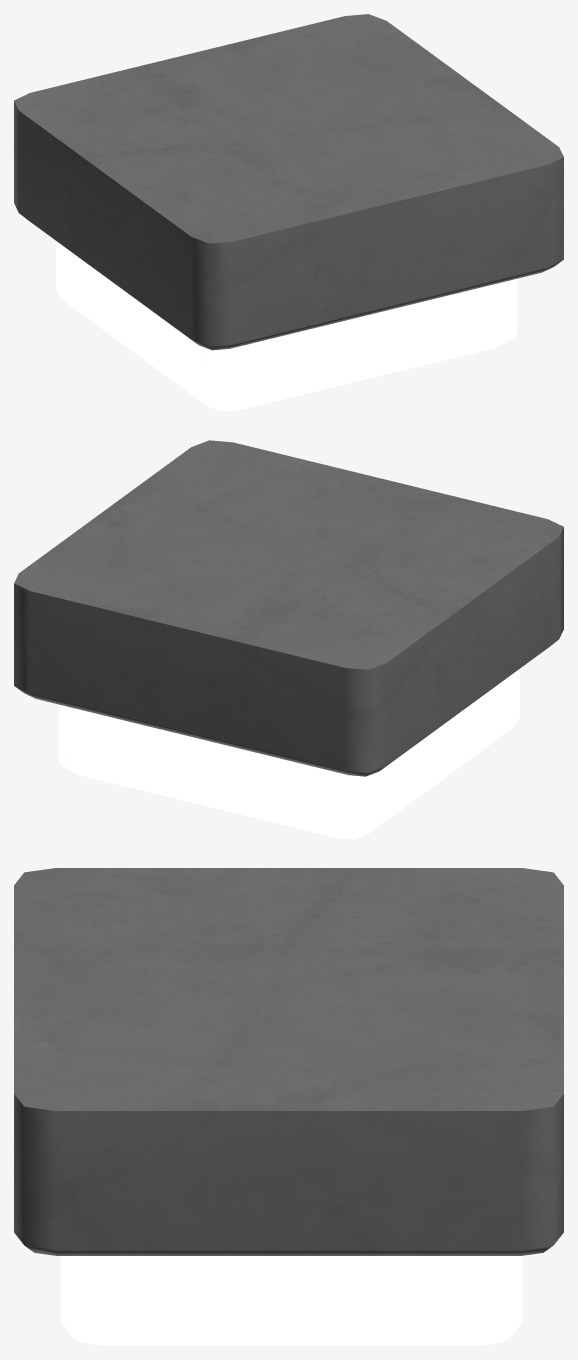
File: SM_Roof_Light3.glb
3 views of the same model, one above another, from view 1: azimuth 30°, elevation 25°; view 2: azimuth 150°, elevation 25°; view 3: azimuth 270°, elevation 25° (orthographic). The views are drawn at different scales.
Visible parts, largest first — view 1: SM_Roof_Light3; view 2: SM_Roof_Light3; view 3: SM_Roof_Light3.
Boxes of the visible parts, x1=… form: SM_Roof_Light3: x1=14, y1=14, x2=563, y2=411; SM_Roof_Light3: x1=14, y1=440, x2=563, y2=839; SM_Roof_Light3: x1=14, y1=868, x2=563, y2=1345.
Bounding box in the file's own units: 0.2005 × 0.0999 × 0.1918.
Materials: 2 (2 with a texture image).
